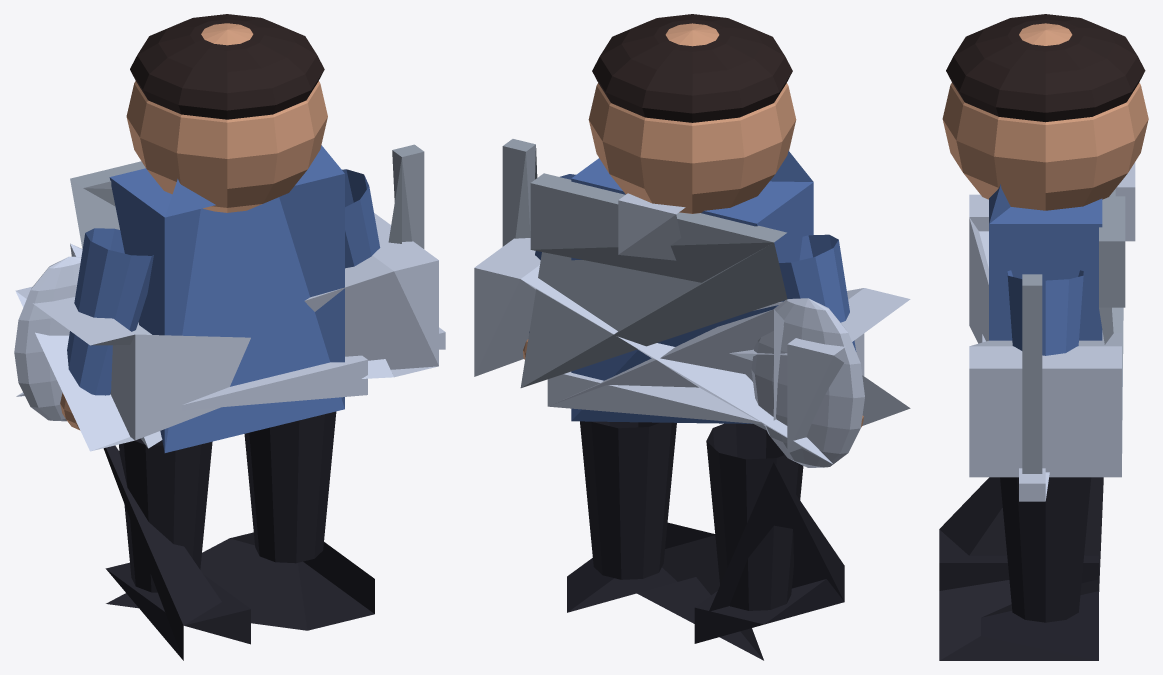
The model's file is Knight_Female.obj.
3 renders of one model, left to right at view 1: azimuth 30°, elevation 25°; view 2: azimuth 150°, elevation 25°; view 3: azimuth 270°, elevation 25°, orthographic. The views are drawn at different scales.
Parts seen in each view (by area): view 1: Knight_Female; view 2: Knight_Female; view 3: Knight_Female.
Part boxes in pixels (box(x1,y1,x2,y2)): Knight_Female: box(14, 14, 445, 660); Knight_Female: box(474, 14, 910, 660); Knight_Female: box(939, 14, 1148, 660).
Bounding box in the file's own units: 1.41 × 1.93 × 0.63.
